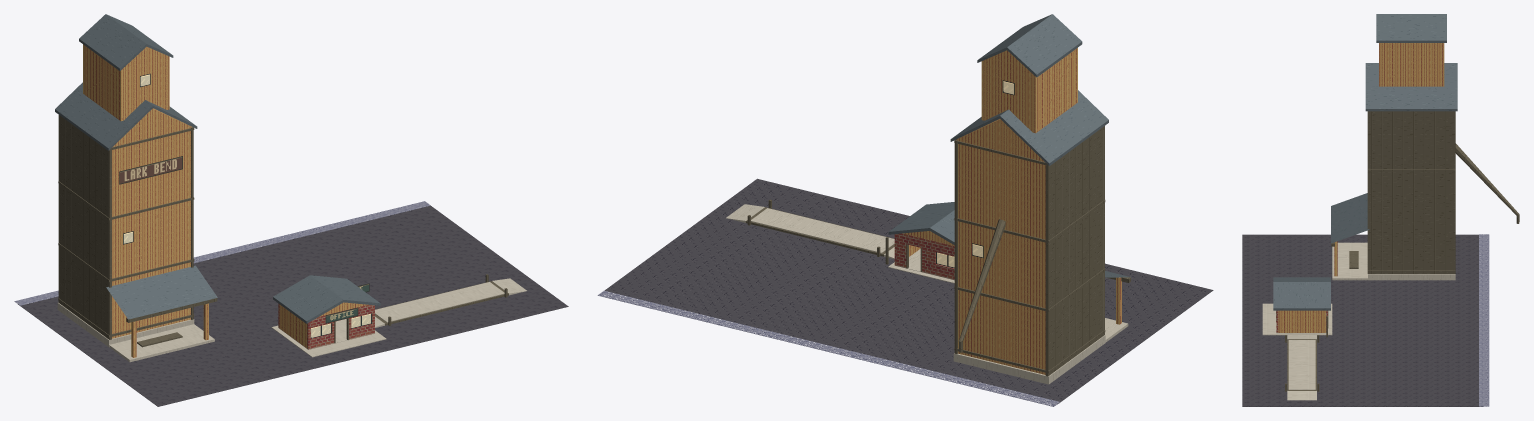
The model's file is lark-bend-1925-far.glb.
3 renders of one model, left to right at view 1: azimuth 30°, elevation 25°; view 2: azimuth 150°, elevation 25°; view 3: azimuth 270°, elevation 25°, orthographic. The views are drawn at different scales.
Visible parts, largest first — view 1: lot, timber_elevator, scale_office, sign_wood; view 2: lot, timber_elevator, scale_office; view 3: lot, timber_elevator, scale_office.
Part boxes in pixels (<box>): lot: <box>14,201,568,406</box>; timber_elevator: <box>55,14,217,362</box>; scale_office: <box>273,275,380,349</box>; sign_wood: <box>119,156,182,184</box>; lot: <box>597,178,1213,406</box>; timber_elevator: <box>950,14,1130,384</box>; scale_office: <box>888,202,954,280</box>; lot: <box>1242,234,1489,406</box>; timber_elevator: <box>1331,14,1519,280</box>; scale_office: <box>1273,277,1330,333</box>.
Size of what is drawn, in the model's own units: 48 by 32.35 by 32.68.
Materials: 9 (9 with a texture image).
